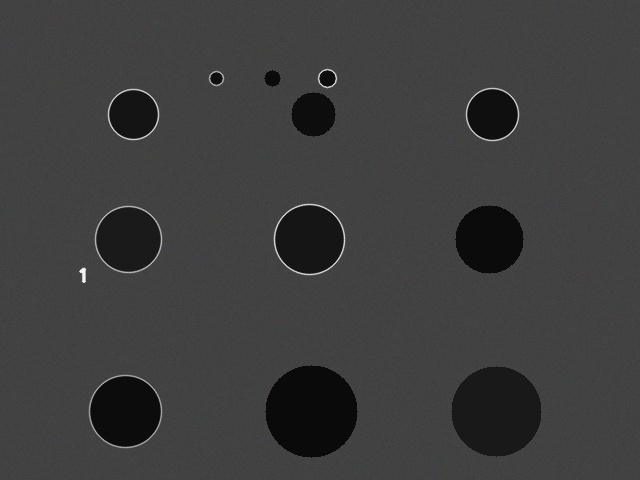hole: (265, 365, 357, 457), (451, 366, 541, 456), (89, 375, 161, 447), (274, 204, 344, 274), (455, 205, 523, 273), (95, 206, 161, 272), (466, 88, 518, 140), (108, 89, 158, 139), (291, 92, 335, 136), (318, 69, 336, 87), (264, 70, 280, 86), (209, 71, 223, 85)
